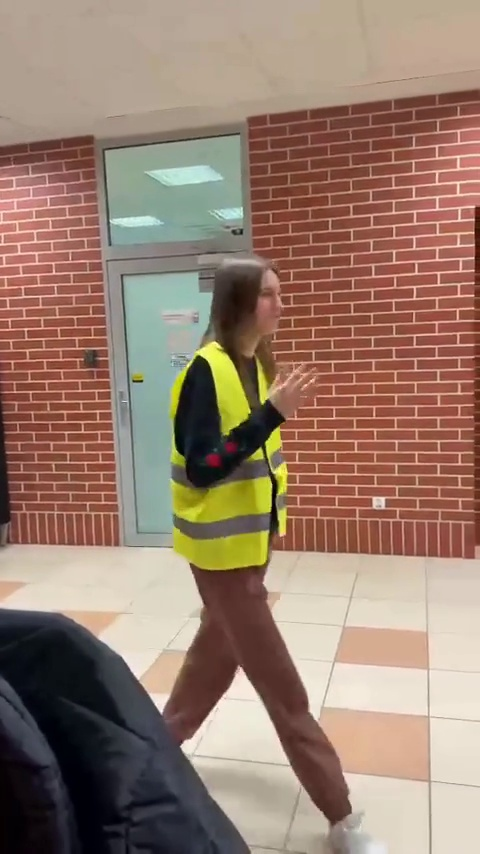vest: (166, 256, 344, 827)
